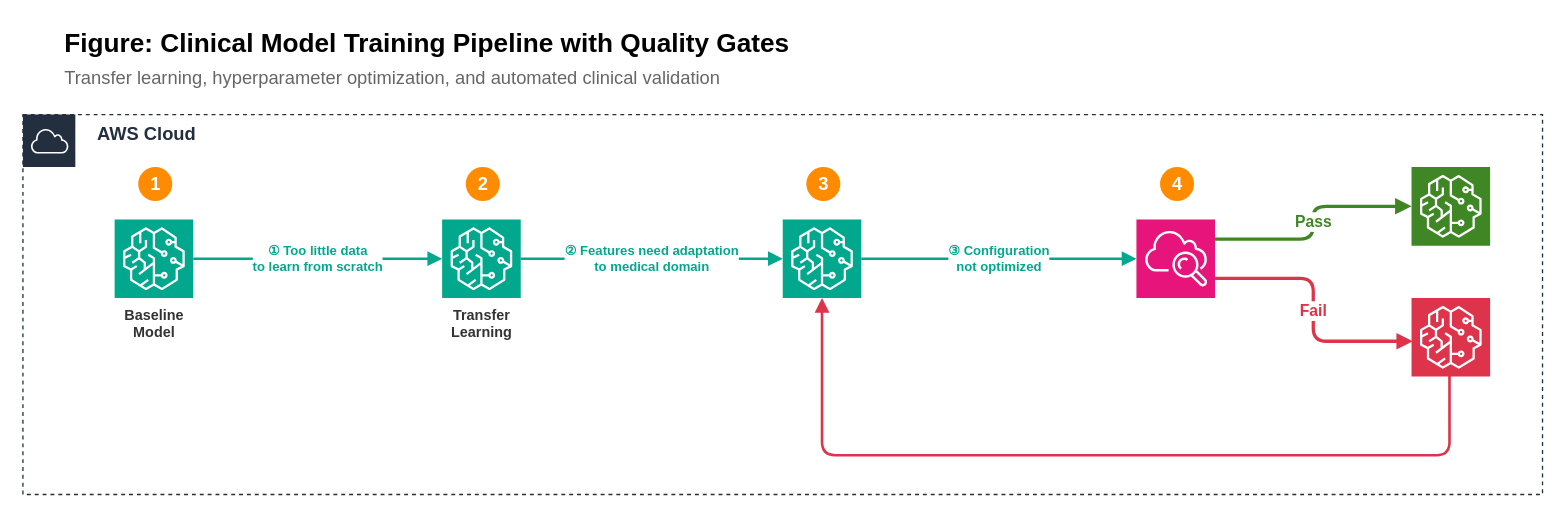
This 1565x517 diagram has some shape labels left out. The centre of each missing label's shape, as x and y in pixels:
"Clinical Quality Gates" goes at point (1175, 258).
"Deploy" goes at point (1450, 206).
"Hyperparameter Optimization" goes at point (821, 258).
"Reject + Retrain" goes at point (1450, 337).
